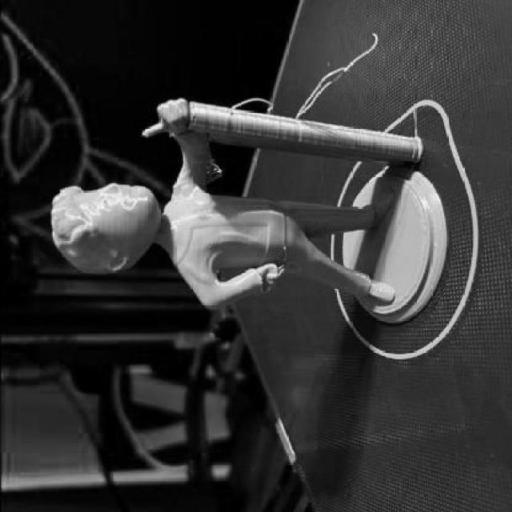spaghetti_and_stringing: (292, 30, 378, 120), (228, 96, 272, 114), (200, 155, 223, 185)
